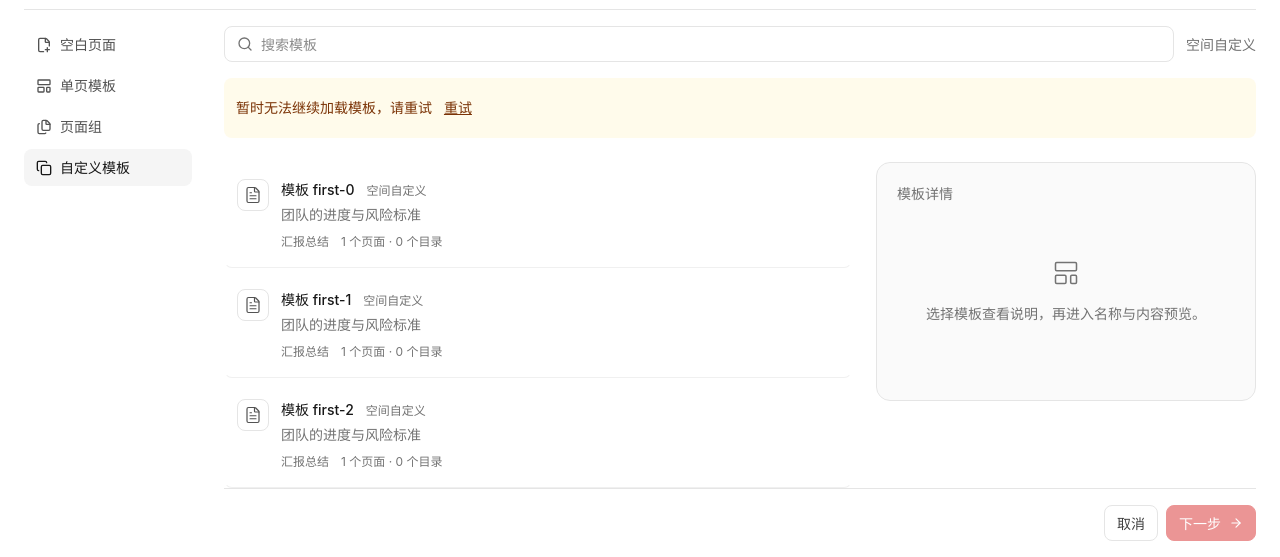
Test: New content page flow › keeps the loaded catalog after a deep-link lookup failure and retries only the failed page
Check: the message shows "暂时无法继续加载模板，请重试", box [236,99,432,116]
Check: the button "模板 first-0 空间自定义 团队的进度与风险标准 汇报总结 1 个页面 · 0 个目录" is shown, box [224,162,852,268]
Click the button "重试".
click(458, 108)  # box [436,90,480,126]
(page scrolled)
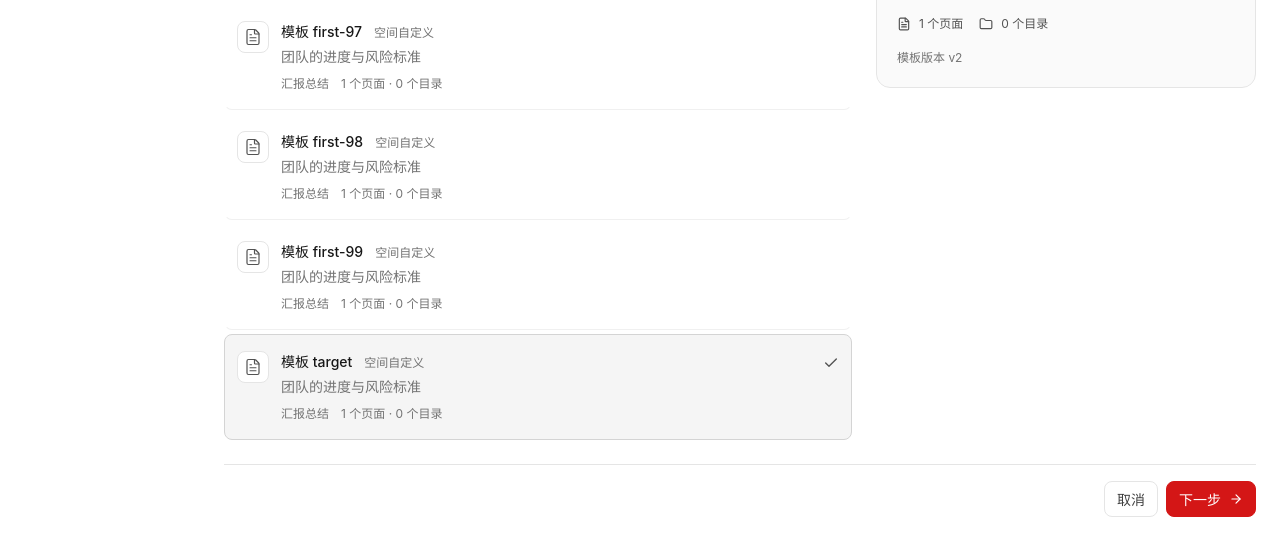
Check: the message "暂时无法继续加载模板，请重试 重试" is gone
